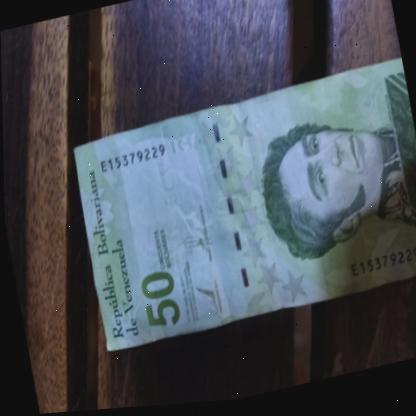vef_front: (65, 62, 416, 356)
